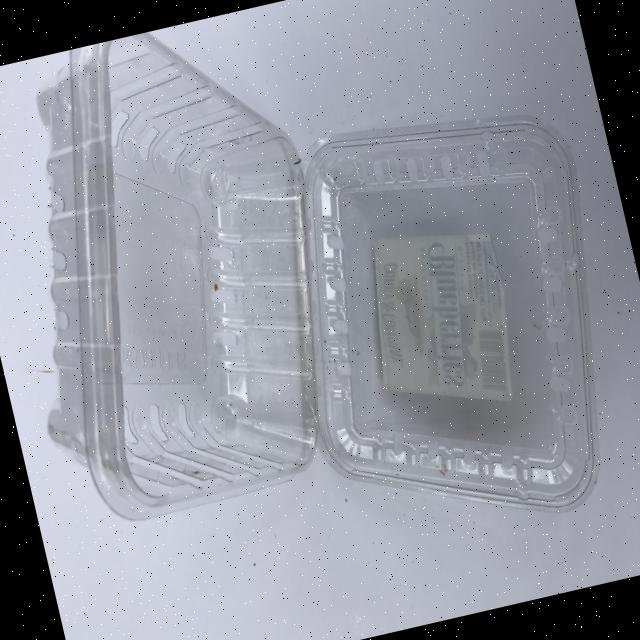plastic: (0, 0, 640, 620)
